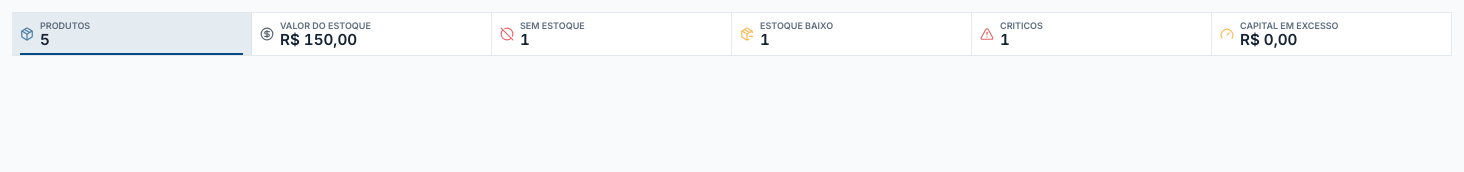
Test case: EstoqueSummaryCards › explica fonte, periodo e regra de Valor do estoque em tooltip acessivel
Focus the text "Valor do estoque" at (372, 34), box [252, 13, 492, 55]
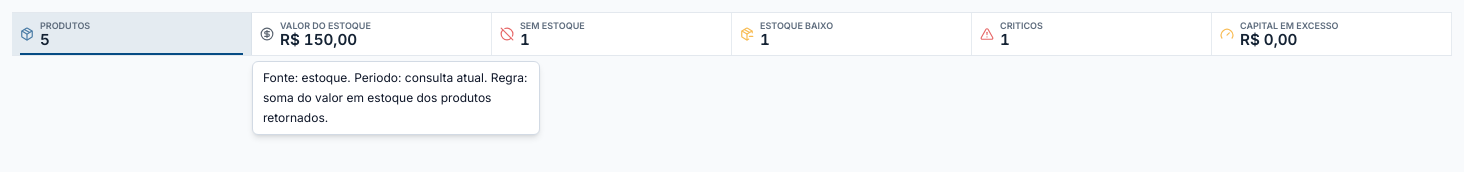
Now the tooltip shows "Fonte: estoque", box [263, 70, 528, 125]
Now the tooltip shows "Periodo: consulta atual", box [263, 70, 528, 125]
Now the tooltip shows "Regra: soma do valor em estoque", box [263, 70, 528, 125]
